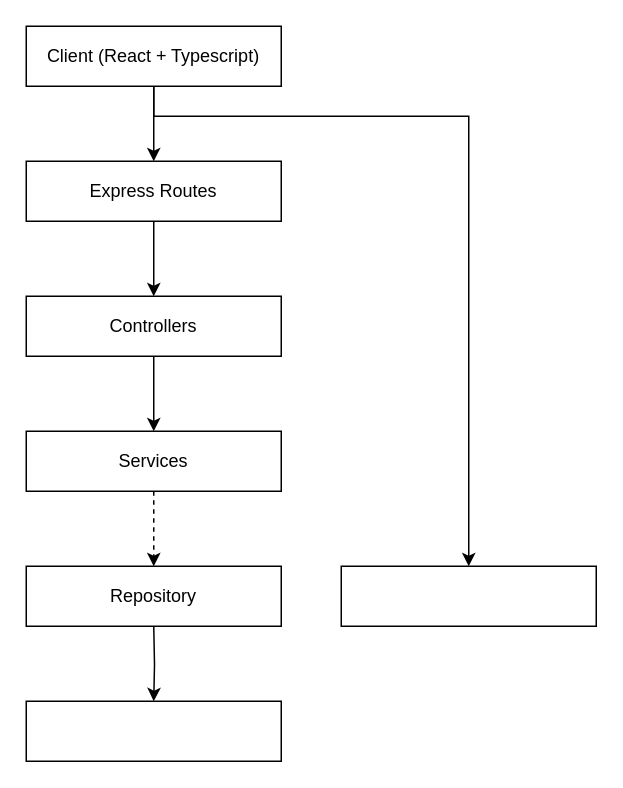
This 623x788 diagram has some shape labels left out. Each missing label, with the centre of its shape:
Local Storage Sync (Autosave): point (468, 595)
PostgreSQL: point (153, 730)
